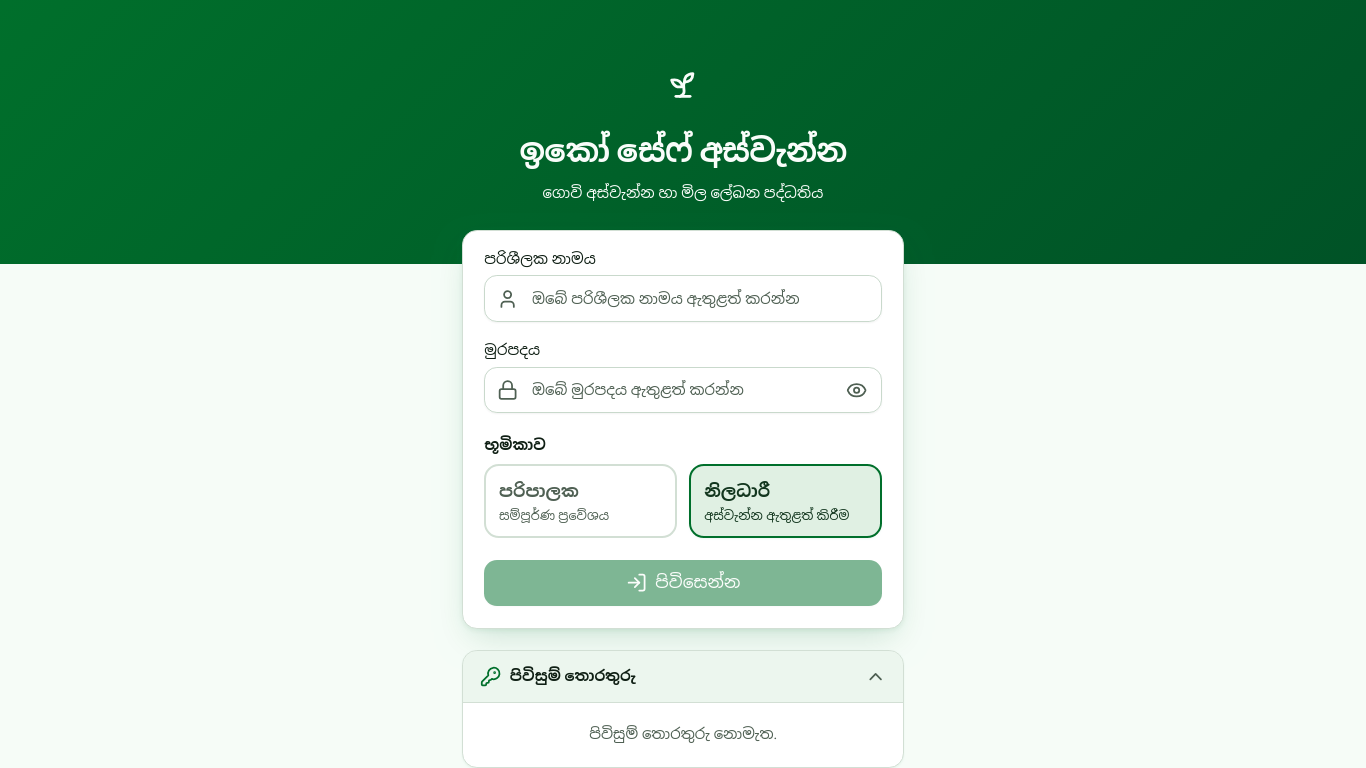
LoginPage › keeps submit disabled until both credentials are present
Expected: the button "පිවිසෙන්න" is disabled, top-left (484, 560), bottom-right (882, 606)
Type "admin" into the field labelled "පරිශීලක නාමය" at coordinates (683, 298), box top-left (484, 275), bottom-right (882, 322)
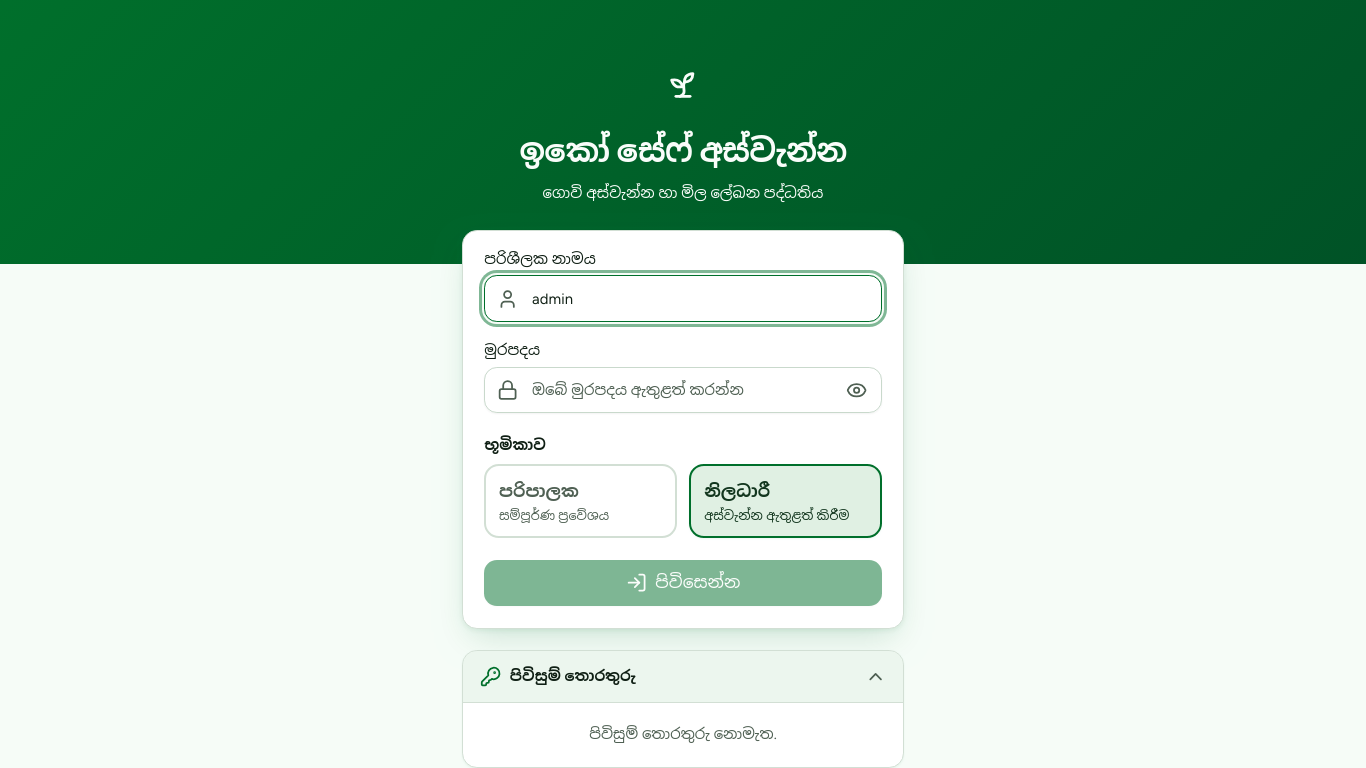
Expected: the button "පිවිසෙන්න" is disabled, top-left (484, 560), bottom-right (882, 606)
Type "secret" into the password field labelled "මුරපදය" at coordinates (683, 390), box top-left (484, 366), bottom-right (882, 413)
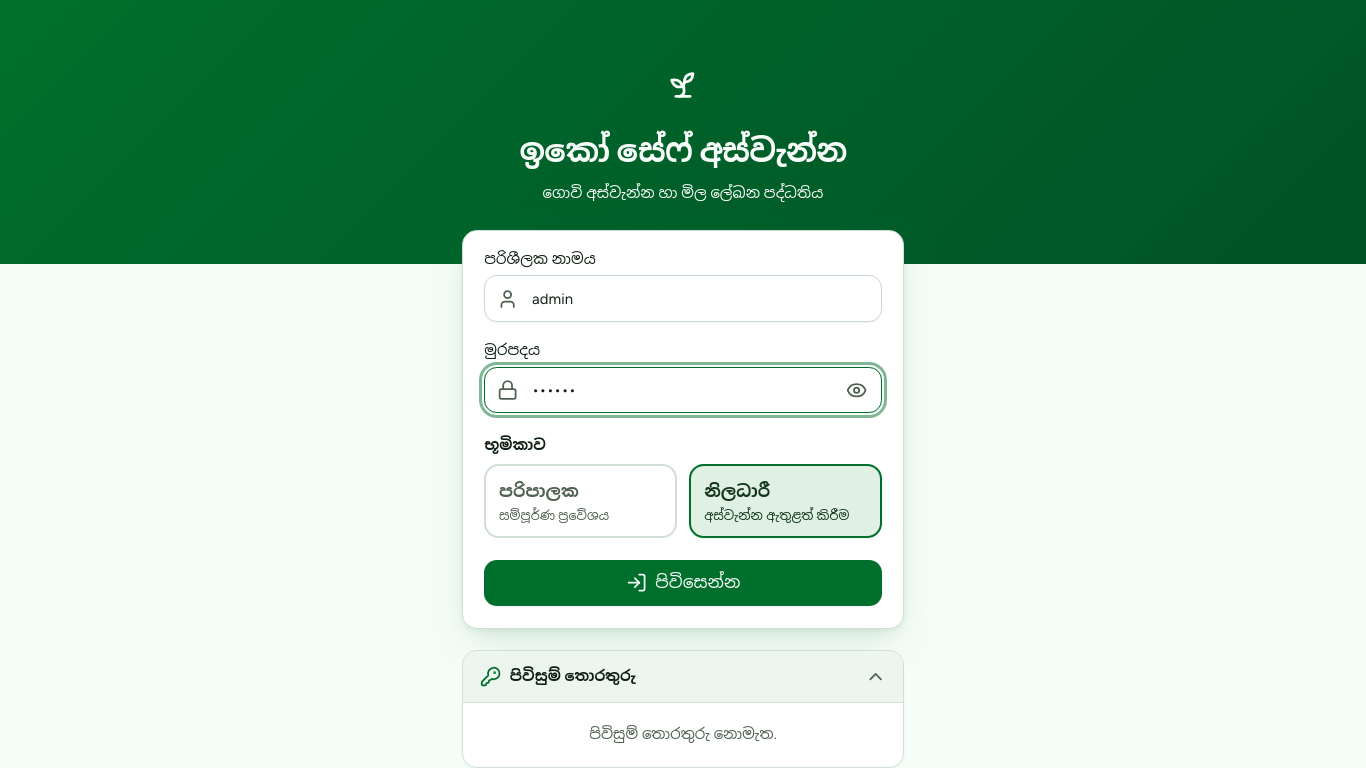
Now the button "පිවිසෙන්න" is enabled, box top-left (484, 560), bottom-right (882, 606)
